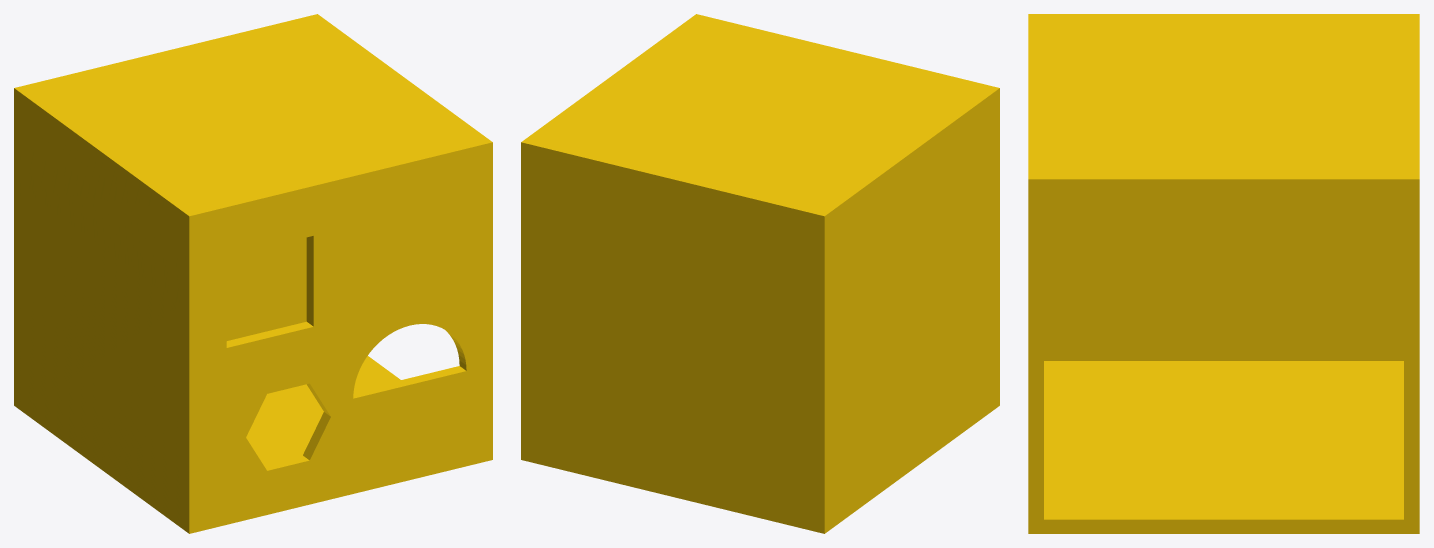
File: box_with_holes_yellow.obj
3 views of the same model, side by side, from view 1: azimuth 30°, elevation 25°; view 2: azimuth 150°, elevation 25°; view 3: azimuth 270°, elevation 25° (orthographic). The views are drawn at different scales.
Parts seen in each view (by area): view 1: box_with_holes_yellow; view 2: box_with_holes_yellow; view 3: box_with_holes_yellow.
Boxes of the visible parts, left/top/right/bottom form: box_with_holes_yellow: left=14, top=14, right=492, bottom=533; box_with_holes_yellow: left=521, top=14, right=999, bottom=533; box_with_holes_yellow: left=1028, top=14, right=1419, bottom=533.
Size of the model in its own units: 0.15 by 0.15 by 0.15.
